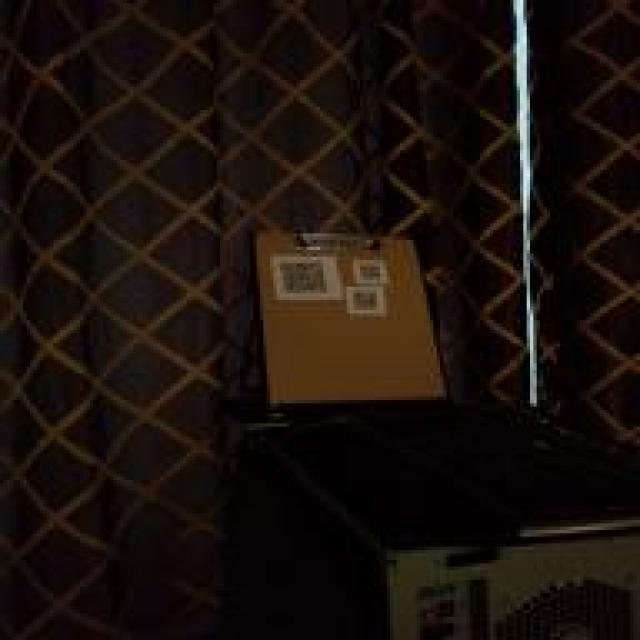QR_CODE: (277, 257, 333, 300), (350, 287, 387, 315), (357, 260, 388, 283)
